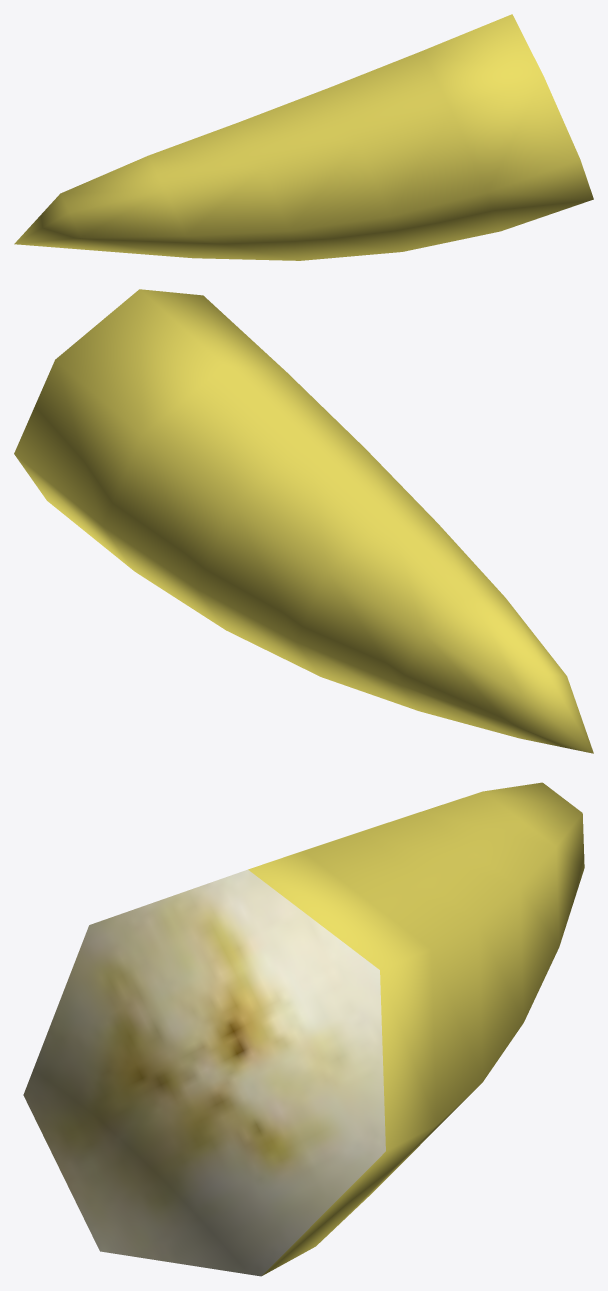
The model's file is BananaCut.fbx.
3 views of the same model, one above another, from view 1: azimuth 30°, elevation 25°; view 2: azimuth 150°, elevation 25°; view 3: azimuth 270°, elevation 25° (orthographic). The views are drawn at different scales.
Parts seen in each view (by area): view 1: Mesh4 banana1 bowl_of_fruit1 Model.001; view 2: Mesh4 banana1 bowl_of_fruit1 Model.001; view 3: Mesh4 banana1 bowl_of_fruit1 Model.001.
Boxes of the visible parts, x1,y1,x2,y2 form: Mesh4 banana1 bowl_of_fruit1 Model.001: [14, 14, 593, 260]; Mesh4 banana1 bowl_of_fruit1 Model.001: [14, 289, 593, 753]; Mesh4 banana1 bowl_of_fruit1 Model.001: [23, 782, 584, 1276].
Bounding box in the file's own units: 1470 × 614 × 737.
